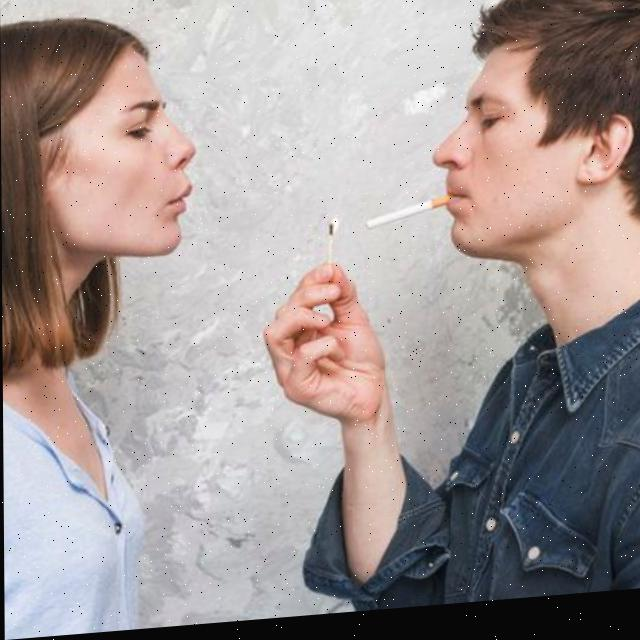cigarette: (364, 201, 451, 237)
